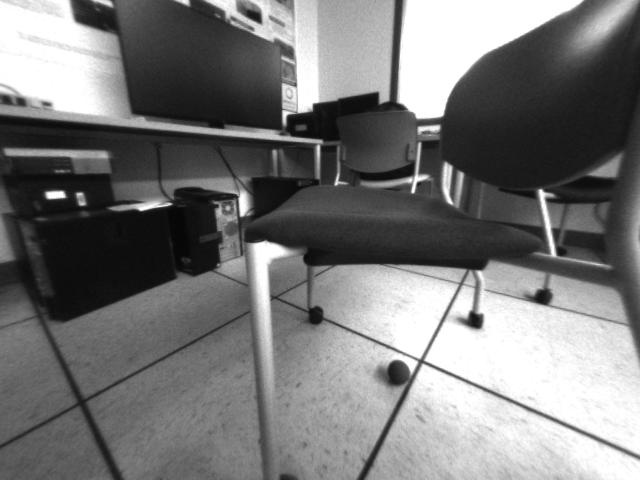dogtoy: (383, 353, 416, 387)
